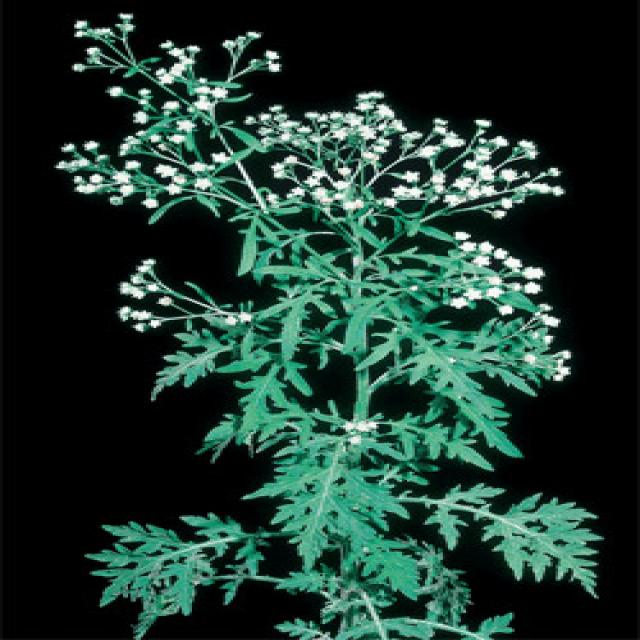Poisonous-Parthenium: (64, 24, 640, 640), (636, 11, 636, 27)
